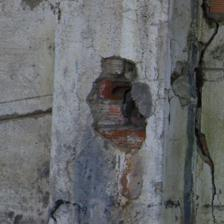Crack: (0, 0, 135, 58), (45, 44, 156, 108), (65, 0, 94, 100), (39, 0, 70, 83), (75, 43, 146, 78)
